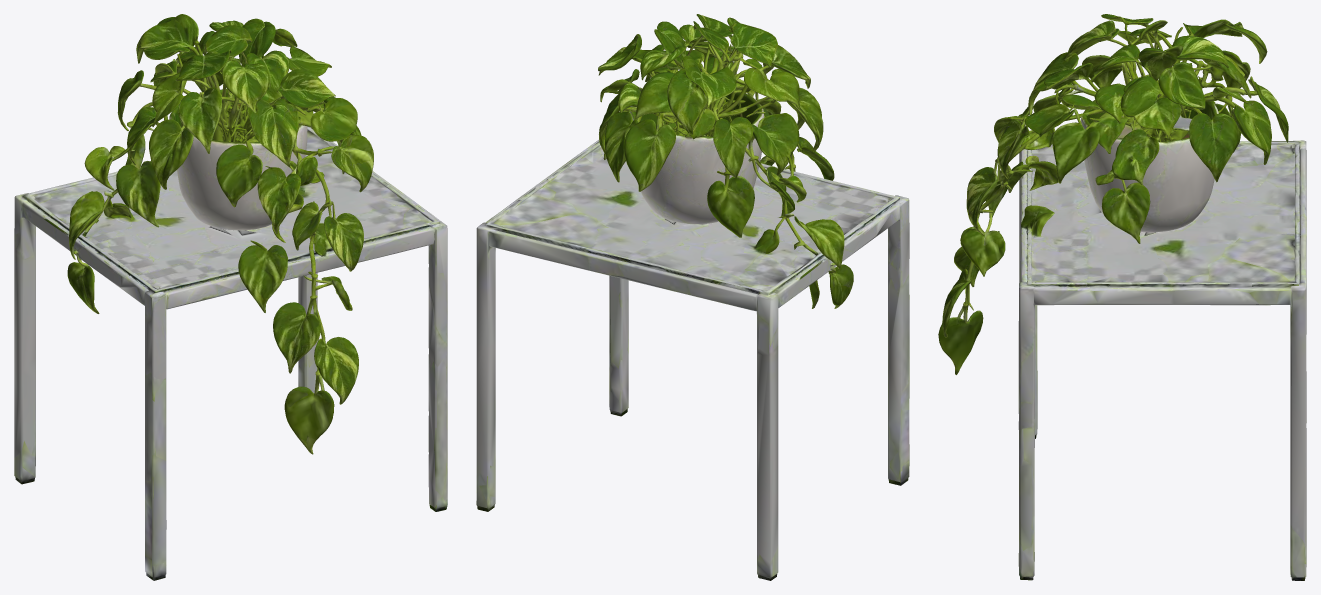
Rendered from sidetable.glb.
3 renders of one model, left to right at view 1: azimuth 30°, elevation 25°; view 2: azimuth 150°, elevation 25°; view 3: azimuth 270°, elevation 25°, orthographic. The views are drawn at different scales.
Size of the model in its own units: 1.28 by 1.9 by 1.31.
Materials: 1 (1 with a texture image).
